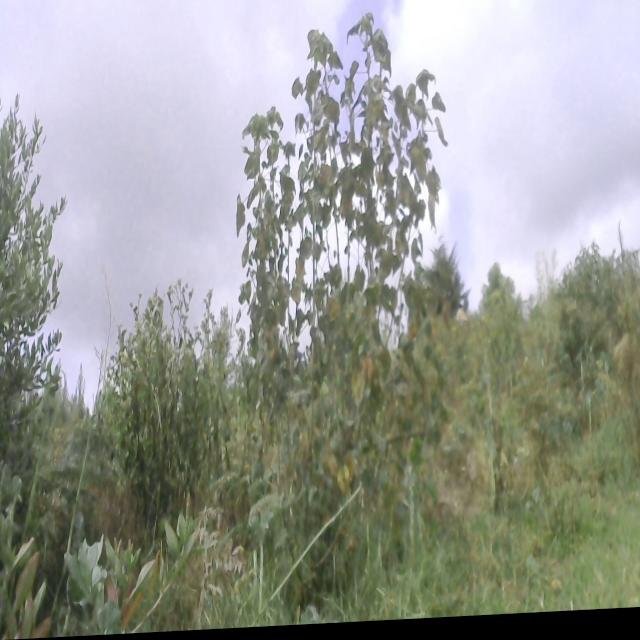cedrus: (427, 236, 473, 323)
other: (239, 16, 447, 562), (102, 271, 232, 516), (0, 95, 70, 504)
